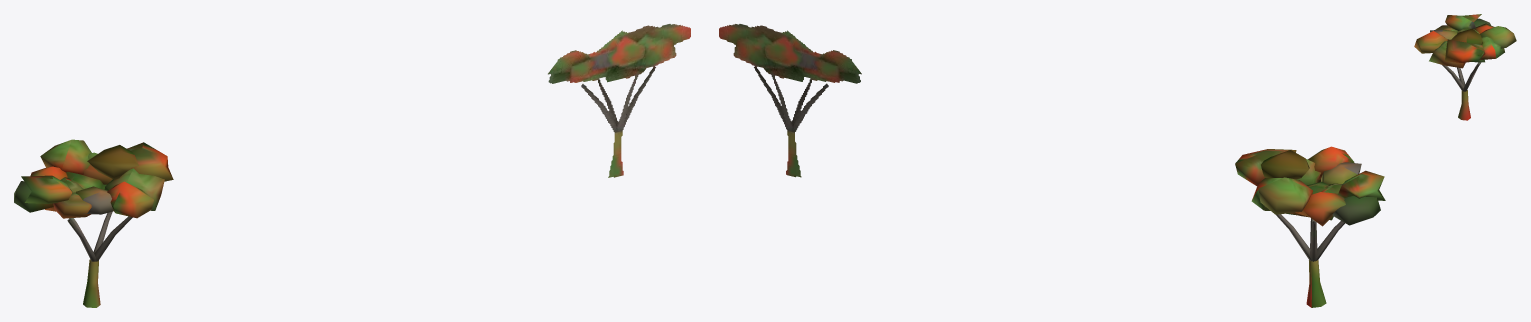
File: tree_gulmohar.glb
3 renders of one model, left to right at view 1: azimuth 30°, elevation 25°; view 2: azimuth 150°, elevation 25°; view 3: azimuth 270°, elevation 25°, orthographic. The views are drawn at different scales.
Visible parts, largest first — view 1: tree_gulmohar_LOD0, tree_gulmohar_IMPOSTOR; view 2: tree_gulmohar_LOD0, tree_gulmohar_IMPOSTOR; view 3: tree_gulmohar_LOD0.
Part boxes in pixels (box(x1,y1,x2,y2)): tree_gulmohar_LOD0: box(14, 139, 173, 307); tree_gulmohar_IMPOSTOR: box(548, 24, 690, 177); tree_gulmohar_LOD0: box(1235, 146, 1385, 307); tree_gulmohar_IMPOSTOR: box(719, 24, 861, 177); tree_gulmohar_LOD0: box(1414, 14, 1516, 120).
Size of what is drawn, in the model's own units: 136 by 28.18 by 27.83.
Materials: 2 (2 with a texture image).
